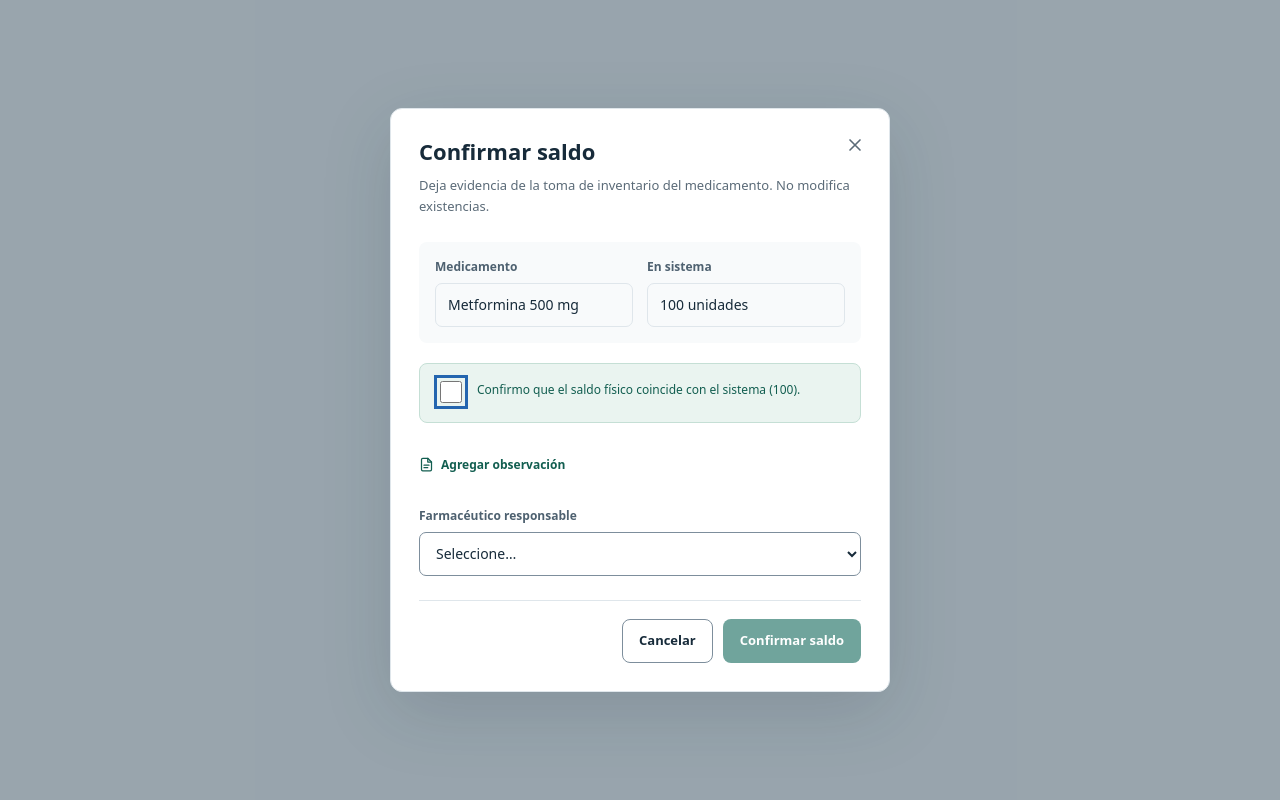
Scenario: CountModal › mantiene deshabilitado el botón hasta marcar la casilla
Step 1. Select "Ana Rojas — CF-1" in the dropdown labelled "Farmacéutico responsable" → (640, 554), box [419,532,861,576]
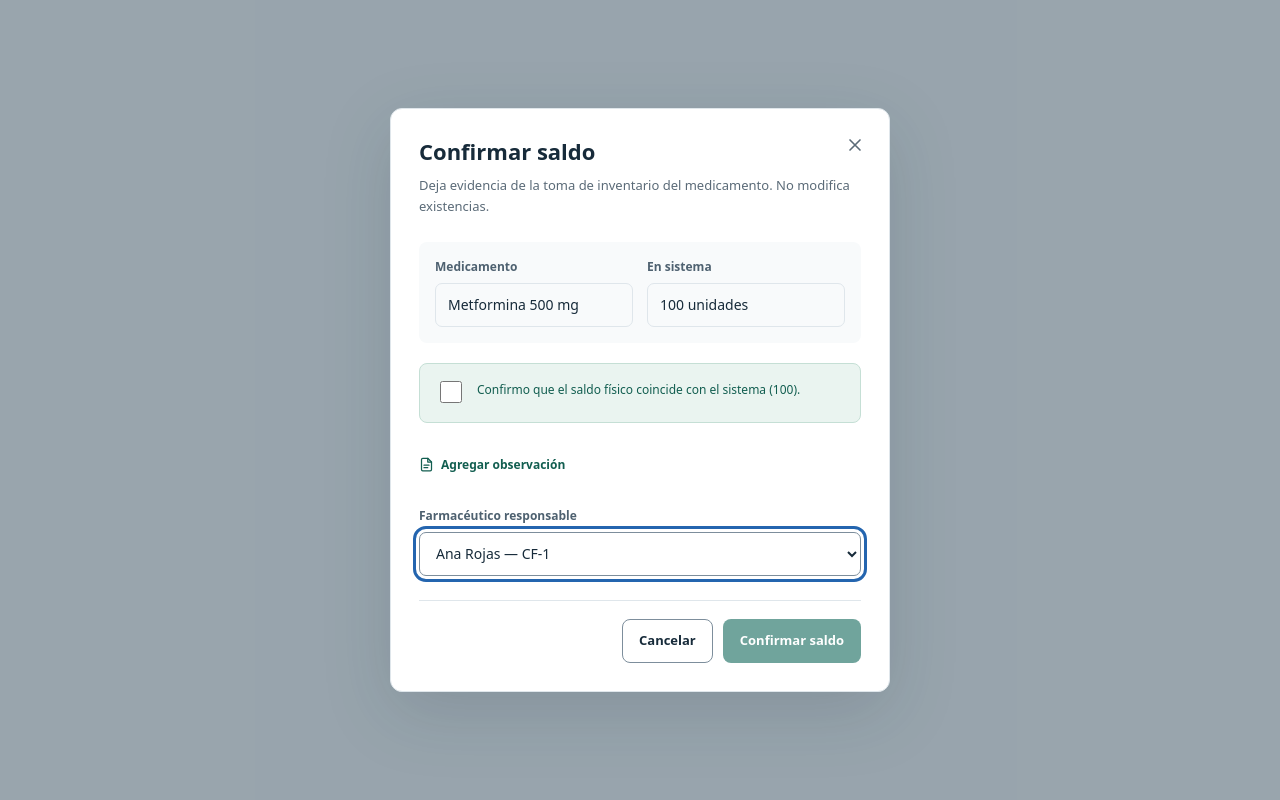
Expected: the button "Confirmar saldo" is disabled, [723,619,861,663]
Step 2. Click the checkbox → click(451, 392), box [440,381,462,403]
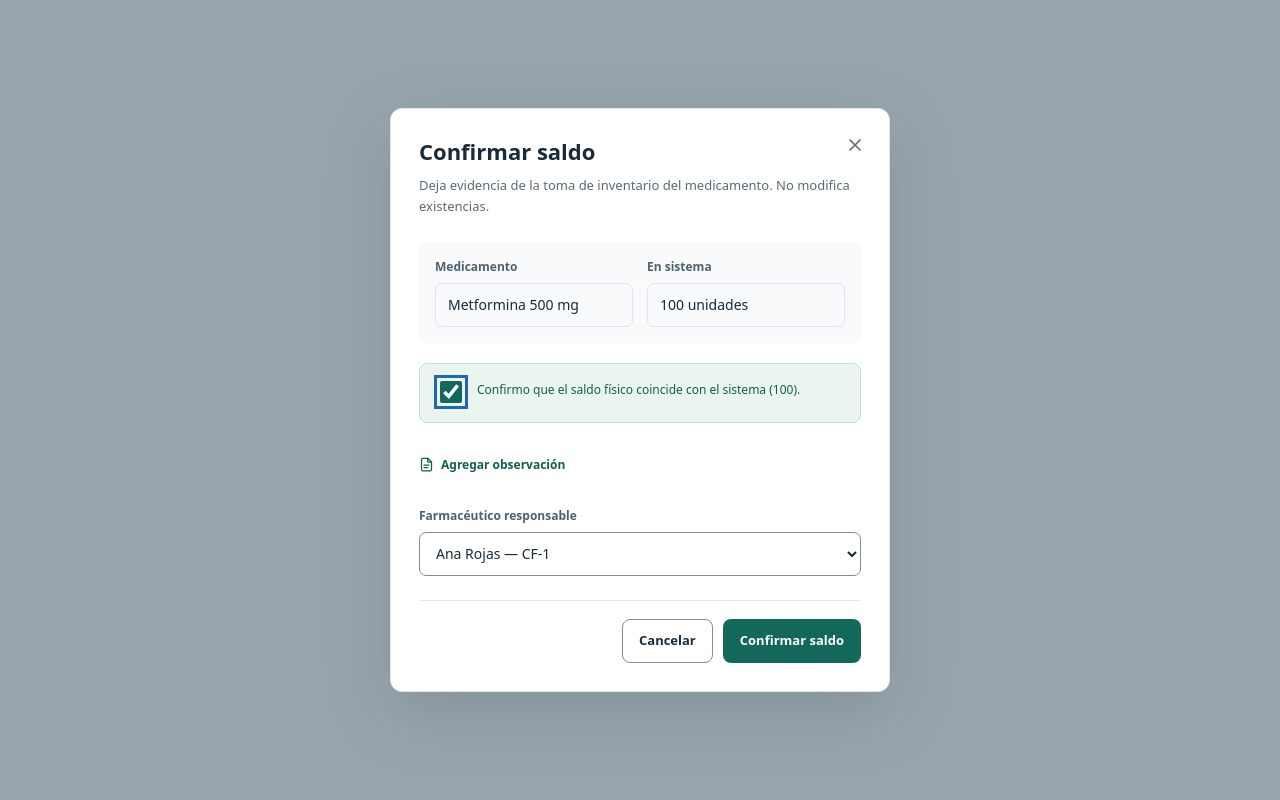
Expected: the button "Confirmar saldo" is enabled, [723,619,861,663]
